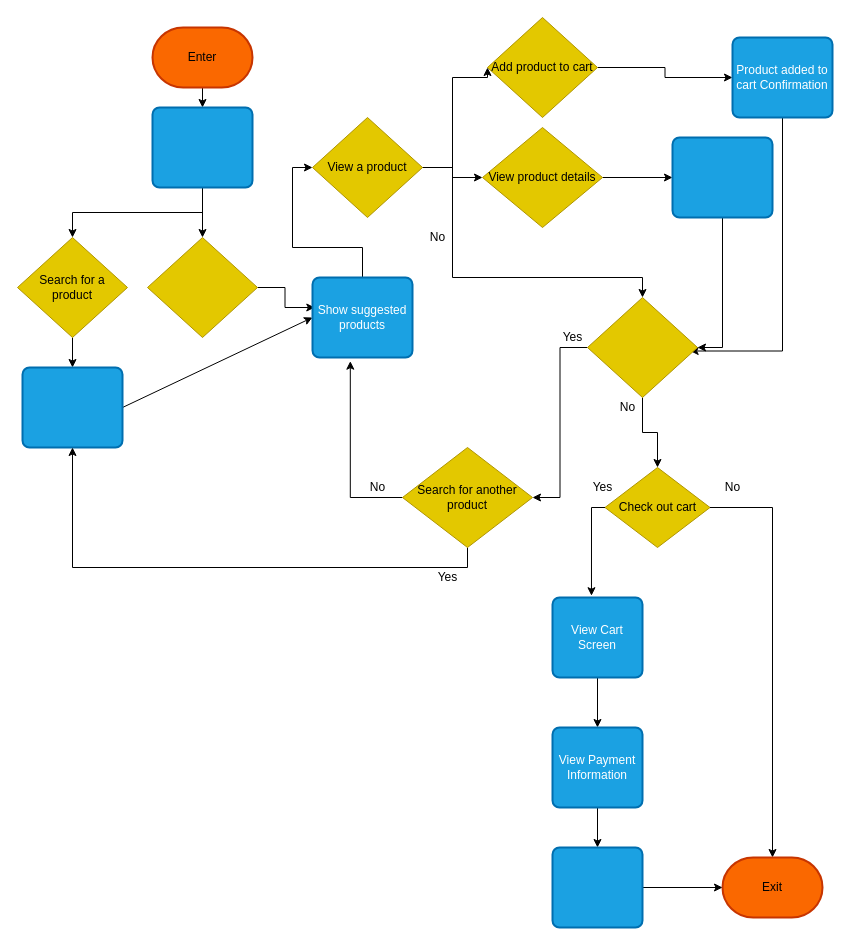
This 851x946 diagram has some shape labels left out. Here are the shapes that lost their labels. From the top down, the centre of each, then its label:
point 202,147: Home page
point 722,177: Open product's page
point 202,287: Explore products
point 642,347: Continue shopping
point 72,407: Search Input
point 597,887: View Payment Confirmation & Email Receipt
